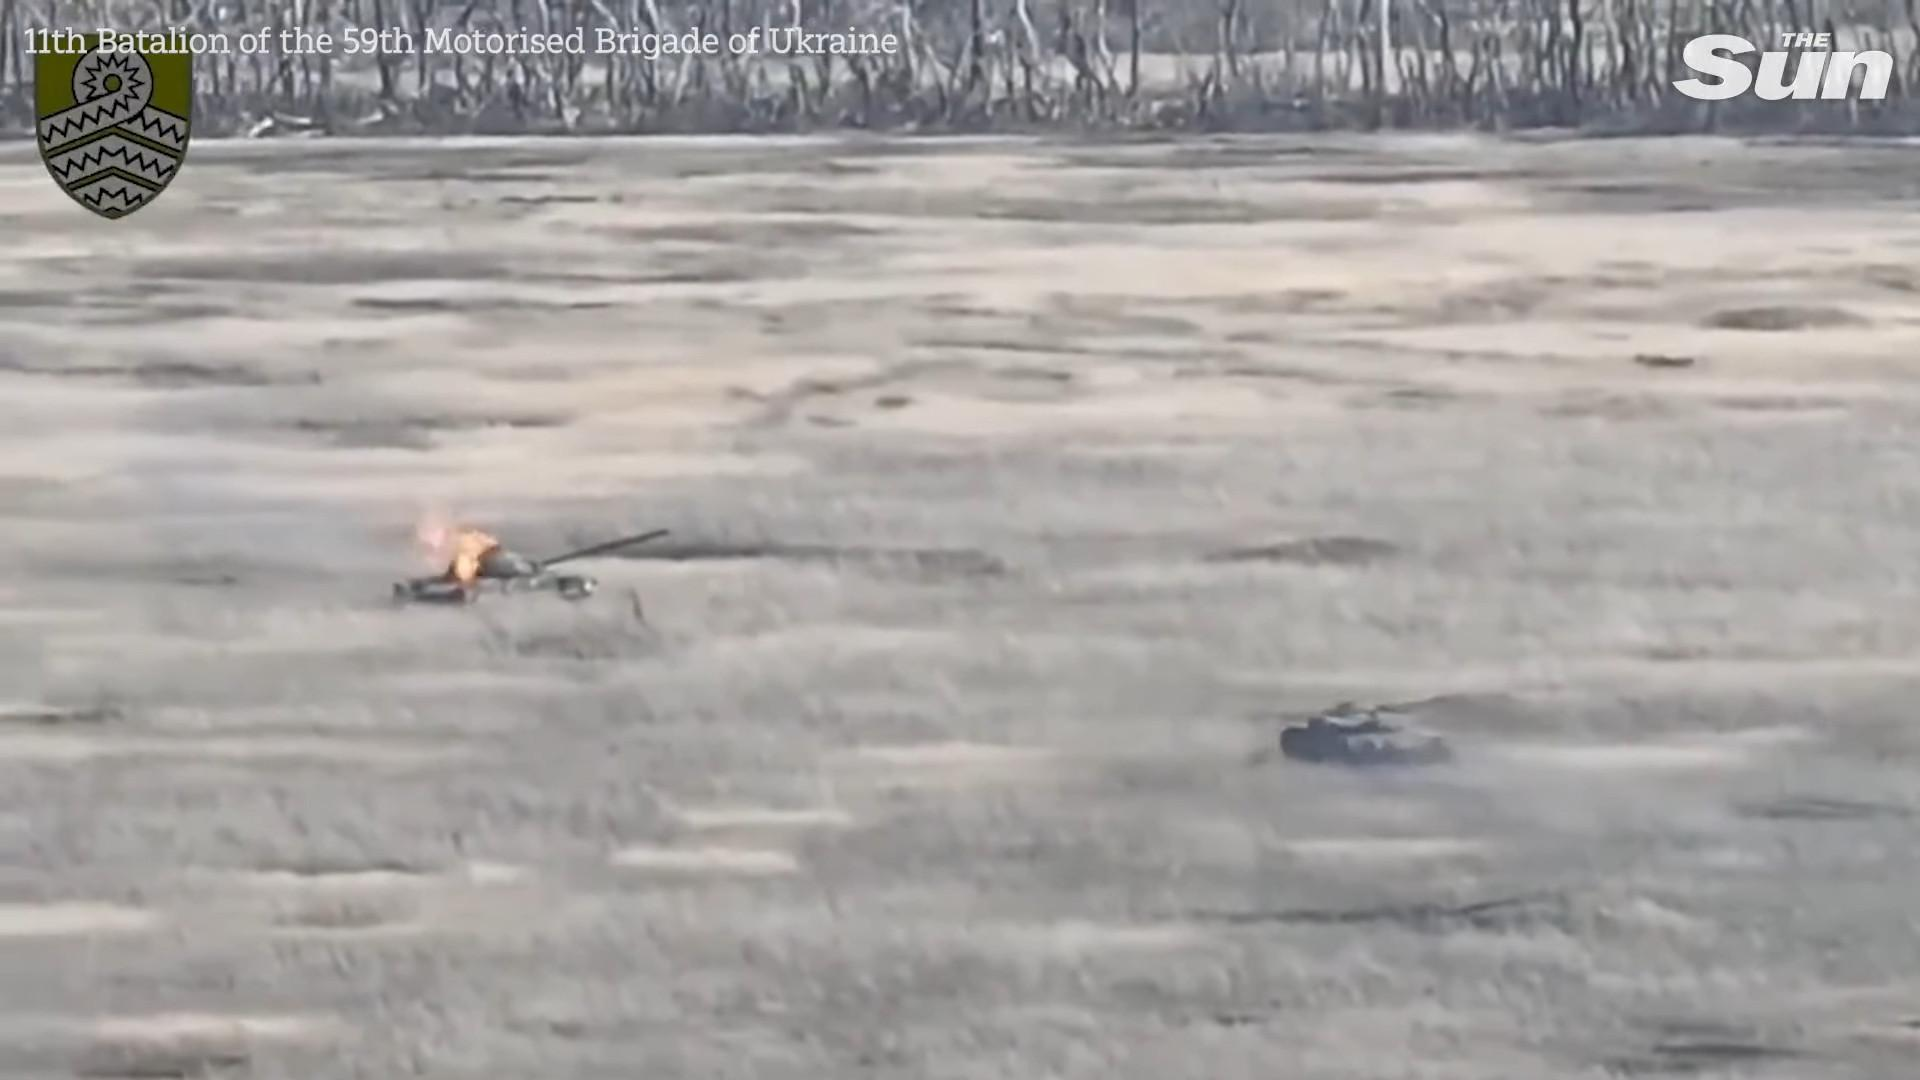tank: (407, 529, 670, 605), (1282, 702, 1452, 765)
